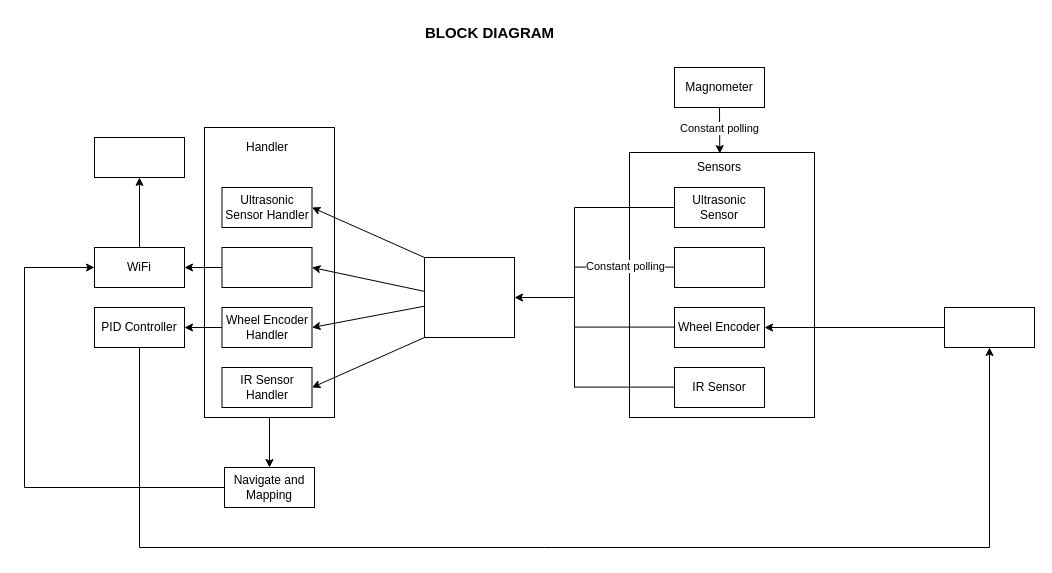
Image size: 1052x573. Some labels were removed from this diagram. Each missing label, with the box of its shape:
Barcode Sensor: (674, 246, 764, 288)
Barcode Sensor Handler: (221, 246, 312, 288)
DC Motor: (944, 306, 1034, 348)
GUI: (94, 136, 184, 178)
Main: (424, 256, 514, 338)
